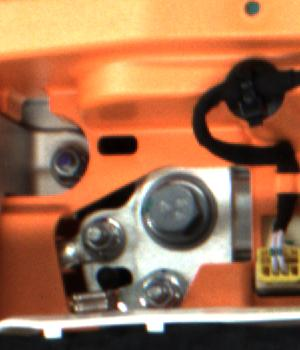nut_b: (140, 162, 221, 253)
